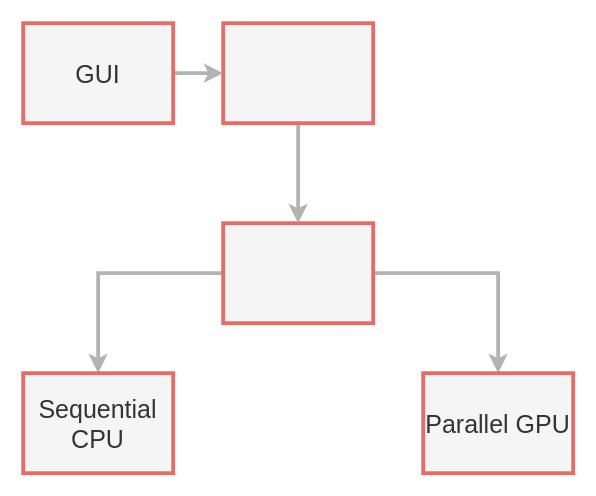
Some shapes in this 596 by 496 pixel diagram are drawn without their labels. The shapes that lost their labels are listed below. From the top down, each one's centre as x and y in pixels, then its label:
(x=297, y=72): Command Line
(x=297, y=272): Program
